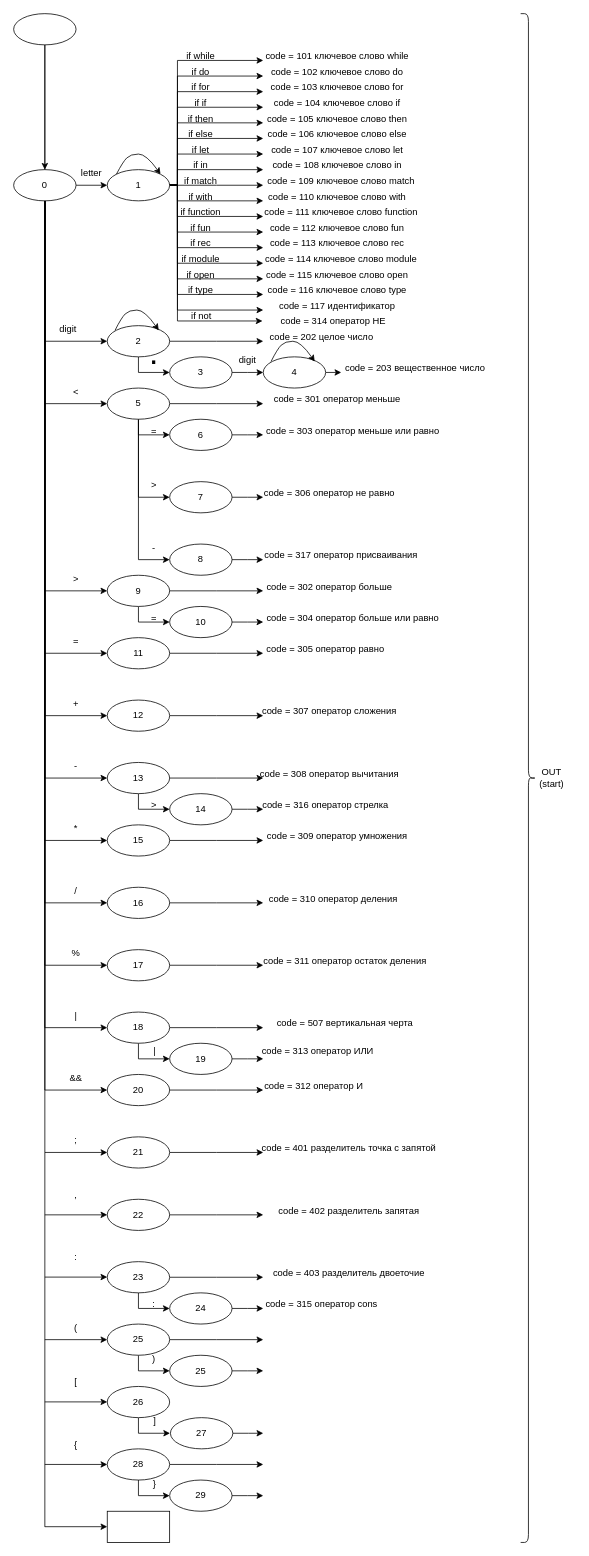
This 589x1556 diagram has some shape labels left out. Here are the shapes that lost their labels. From the top down, the centre of each, then its label:
At (x=44, y=29): "START".
At (x=138, y=1526): "error".
